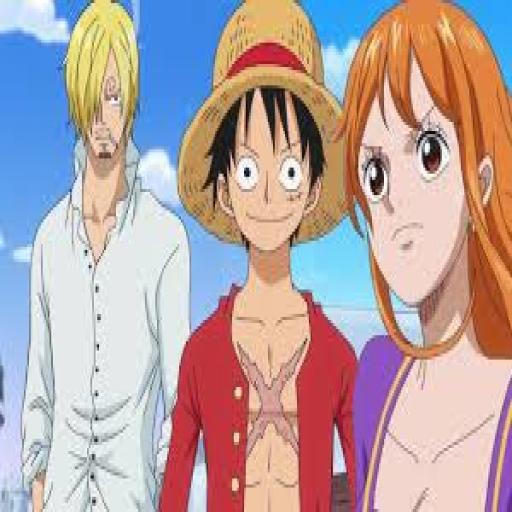Luffy: (172, 0, 359, 512)
Nami: (353, 0, 512, 512)
sanji: (20, 3, 198, 512)
